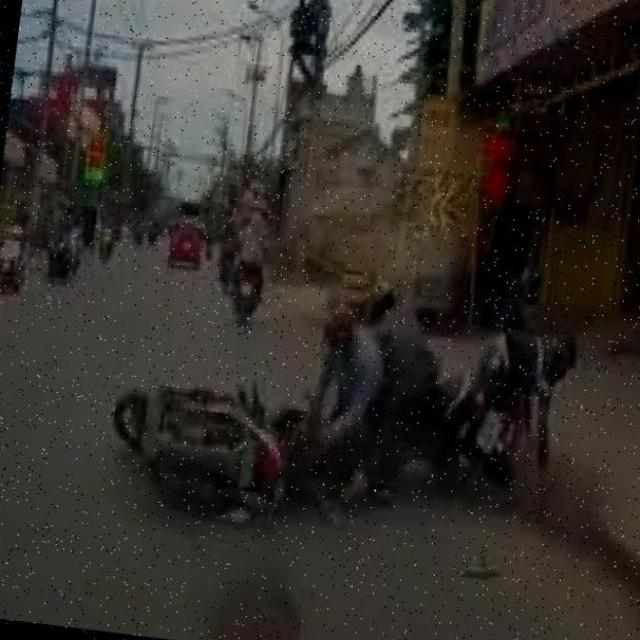accident: (65, 277, 592, 573)
